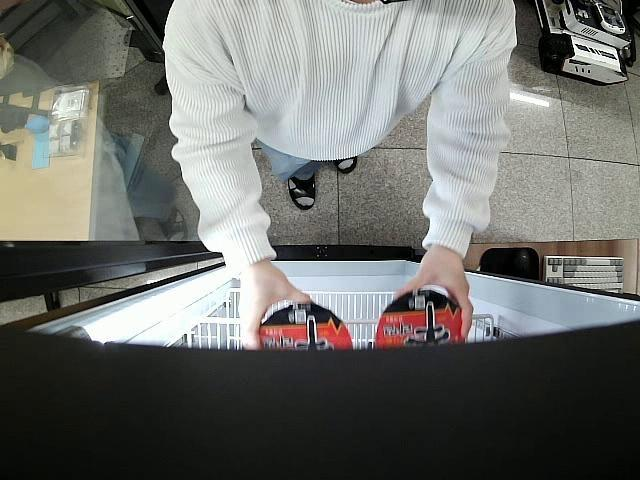01_ShinRamen_L: (254, 300, 355, 356), (370, 292, 468, 348)
